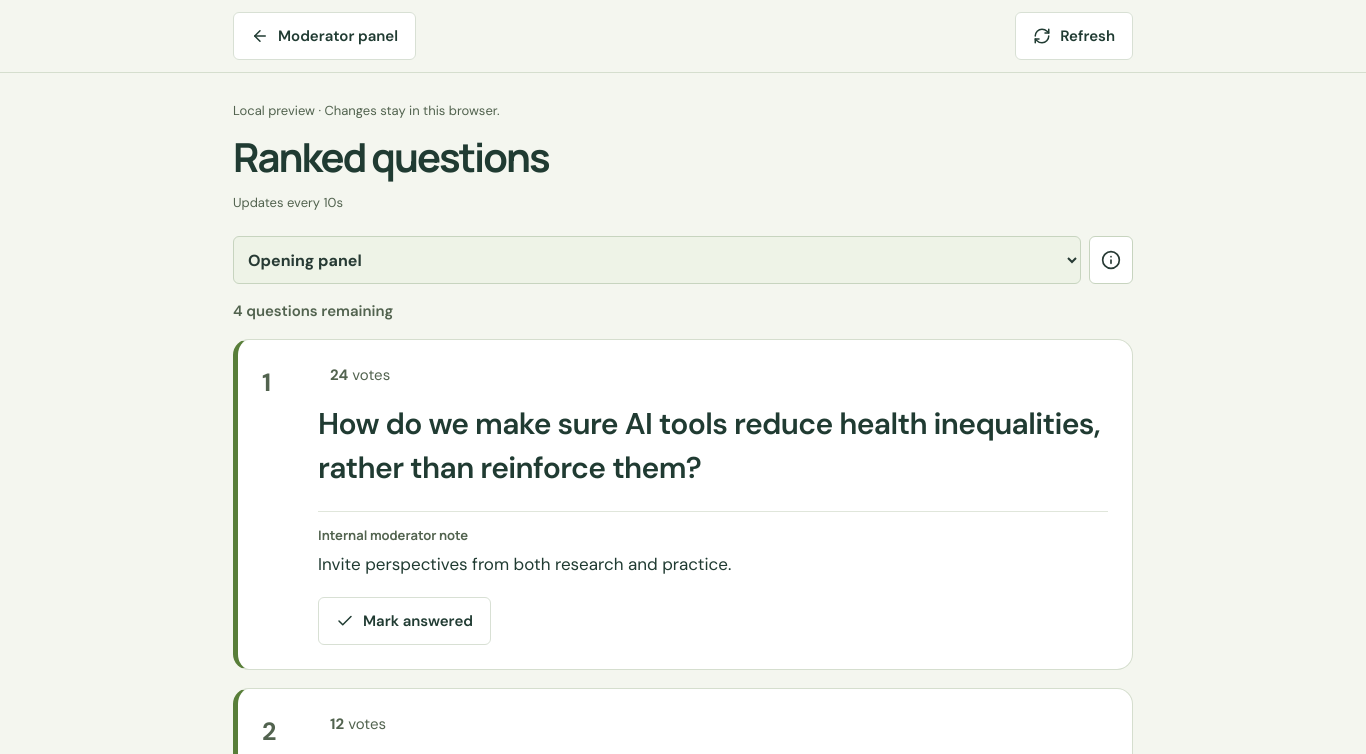
opens directly, ranks shortlist before higher-voted approved questions, and excludes other statuses/sessions
Check: the heading "Ranked questions" is shown, box [233,128,549,184]
Check: the message reads "4 questions remaining", box [233,301,393,321]
What coordinates should you click on to do the following:
click the button "Mark answered"
I would click on:
 (404, 621)
Its box is [318,597,491,645].
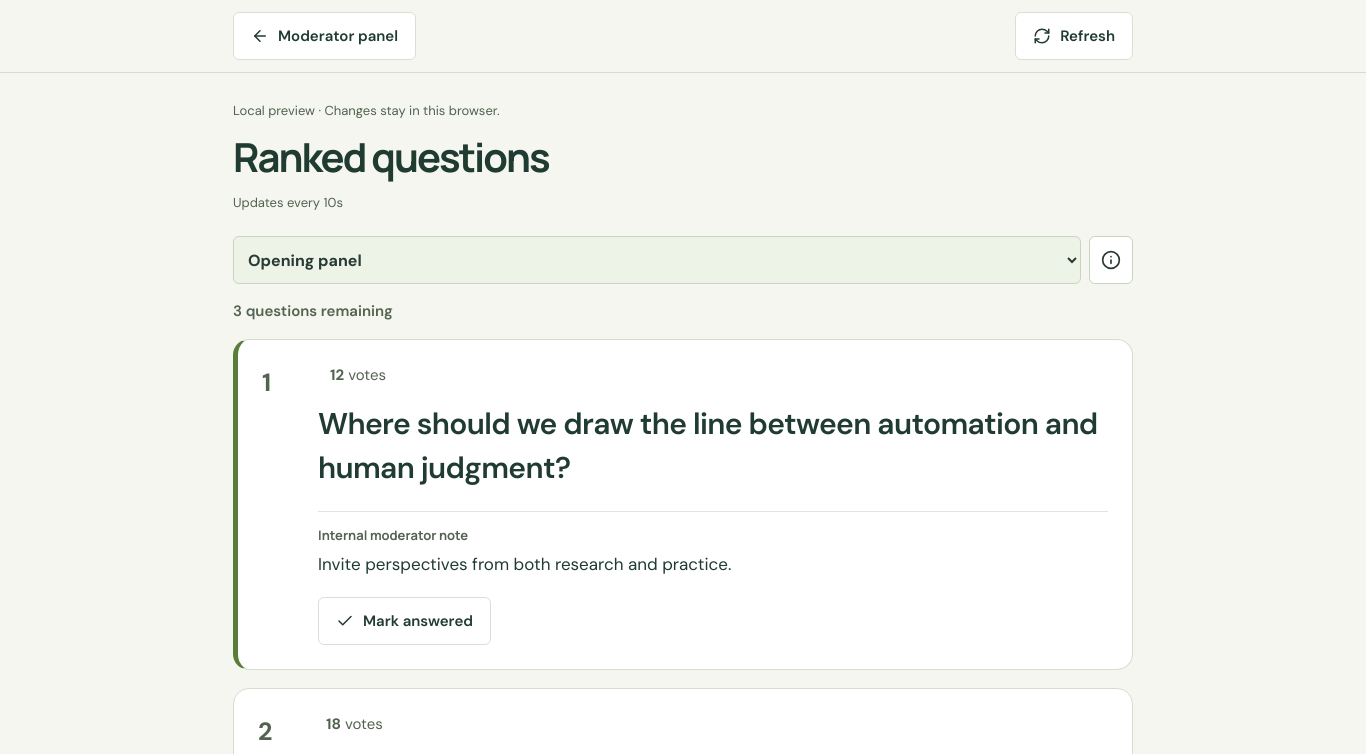
Check: the message reads "3 questions remaining", box [233,301,393,321]
